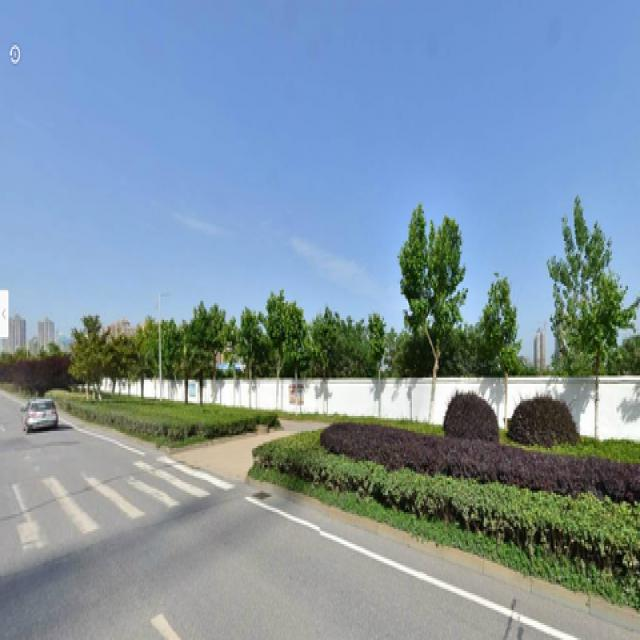meta: (546, 218, 618, 424), (406, 228, 458, 421)
